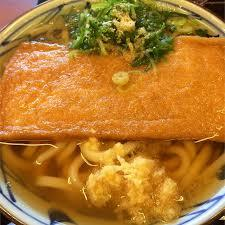kitune: (2, 1, 224, 222)
